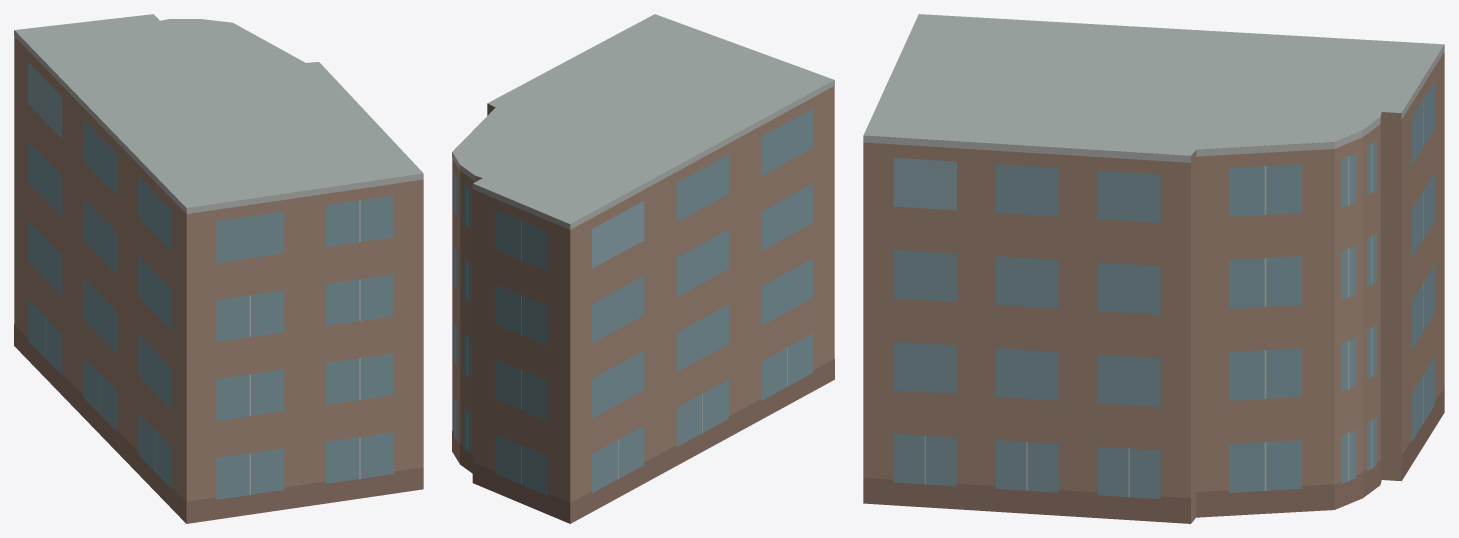
Rendered from survey-upis-32890296.glb.
3 views of the same model, side by side, from view 1: azimuth 30°, elevation 25°; view 2: azimuth 150°, elevation 25°; view 3: azimuth 270°, elevation 25° (orthographic). The views are drawn at different scales.
Visible parts, largest first — view 1: survey-upis-32890296.tmp; view 2: survey-upis-32890296.tmp; view 3: survey-upis-32890296.tmp.
Boxes of the visible parts, x1,y1,x2,y2 form: survey-upis-32890296.tmp: [14, 14, 423, 523]; survey-upis-32890296.tmp: [452, 14, 834, 523]; survey-upis-32890296.tmp: [863, 14, 1444, 523].
Bounding box in the file's own units: 10.59 × 12.8 × 18.33.
